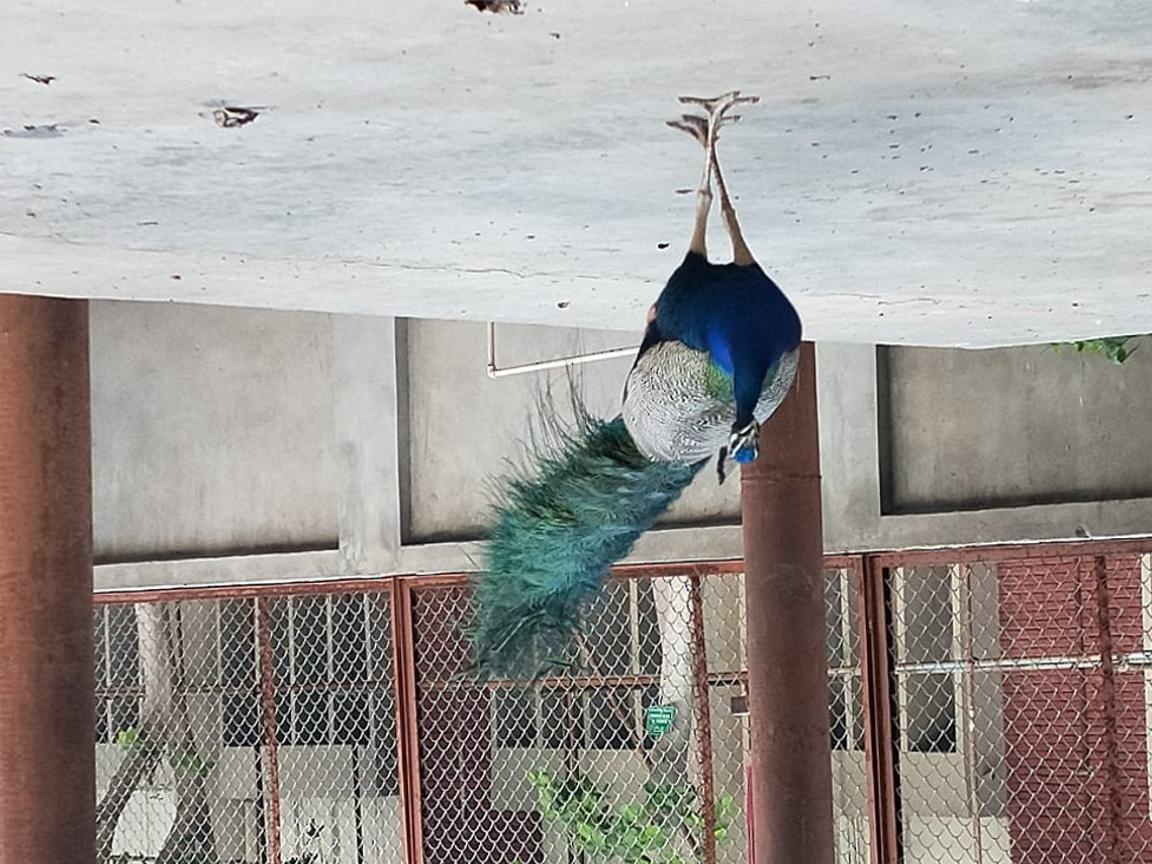peacock: (468, 176, 811, 666)
